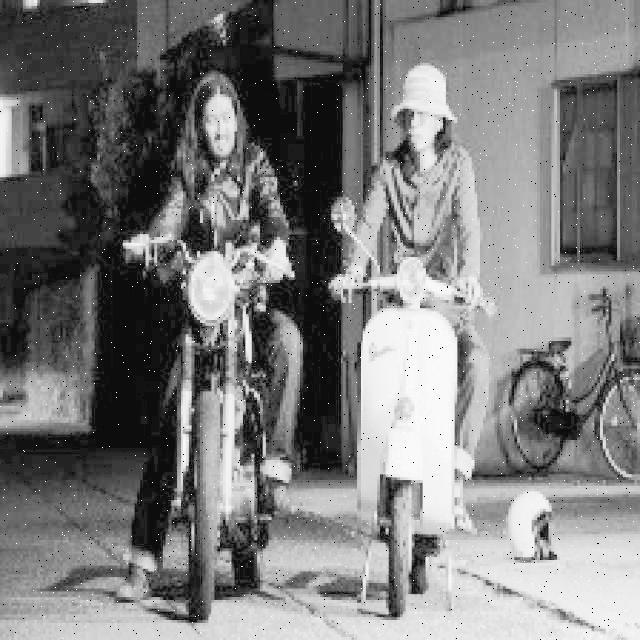Bike: (357, 274, 469, 610), (180, 240, 273, 628)
